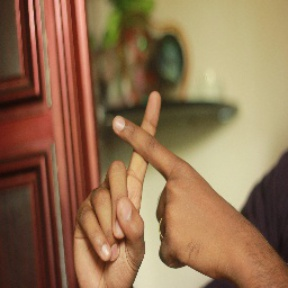X: (77, 86, 219, 221)
